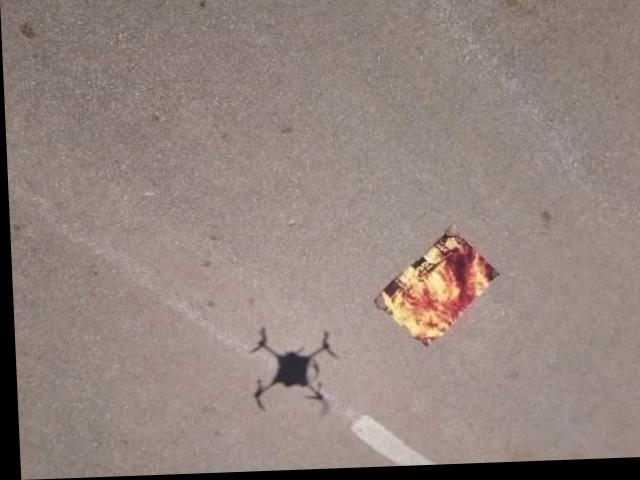fire-poster: (366, 226, 500, 354)
